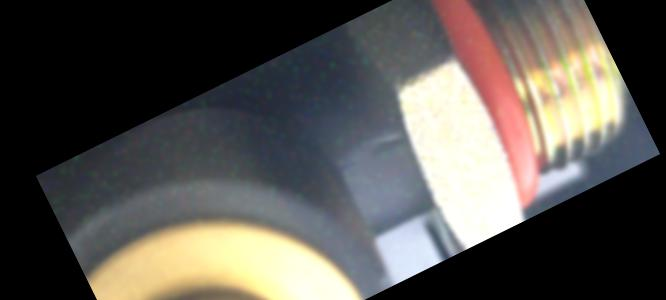joint line: (340, 139, 403, 175)
white mark: (355, 126, 404, 157)
